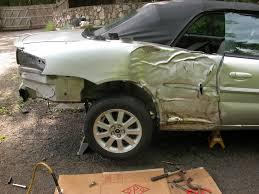doorouter-dent: (145, 45, 219, 135)
